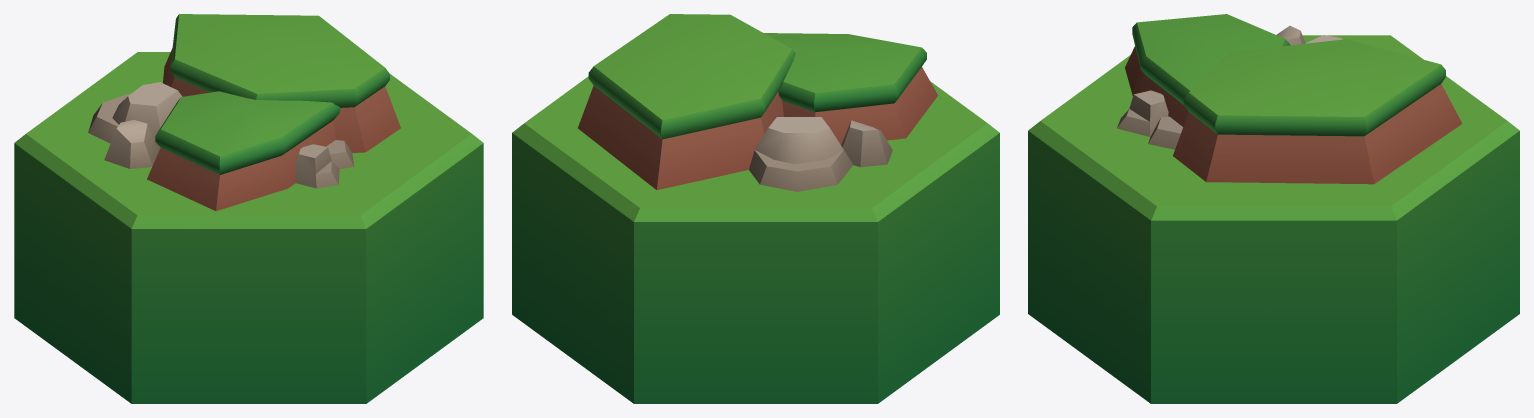
The model's file is hex_hills_b.glb.
The picture shows the model from 3 angles, left to right: view 1: azimuth 30°, elevation 25°; view 2: azimuth 150°, elevation 25°; view 3: azimuth 270°, elevation 25°; orthographic projection. The views are drawn at different scales.
Parts seen in each view (by area): view 1: hex_hills_b; view 2: hex_hills_b; view 3: hex_hills_b.
Boxes of the visible parts, left/top/right/bottom form: hex_hills_b: left=14, top=14, right=483, bottom=403; hex_hills_b: left=512, top=14, right=999, bottom=403; hex_hills_b: left=1028, top=14, right=1519, bottom=403.
Bounding box in the file's own units: 1 × 0.683 × 1.15.
1 material, 1 textured.
